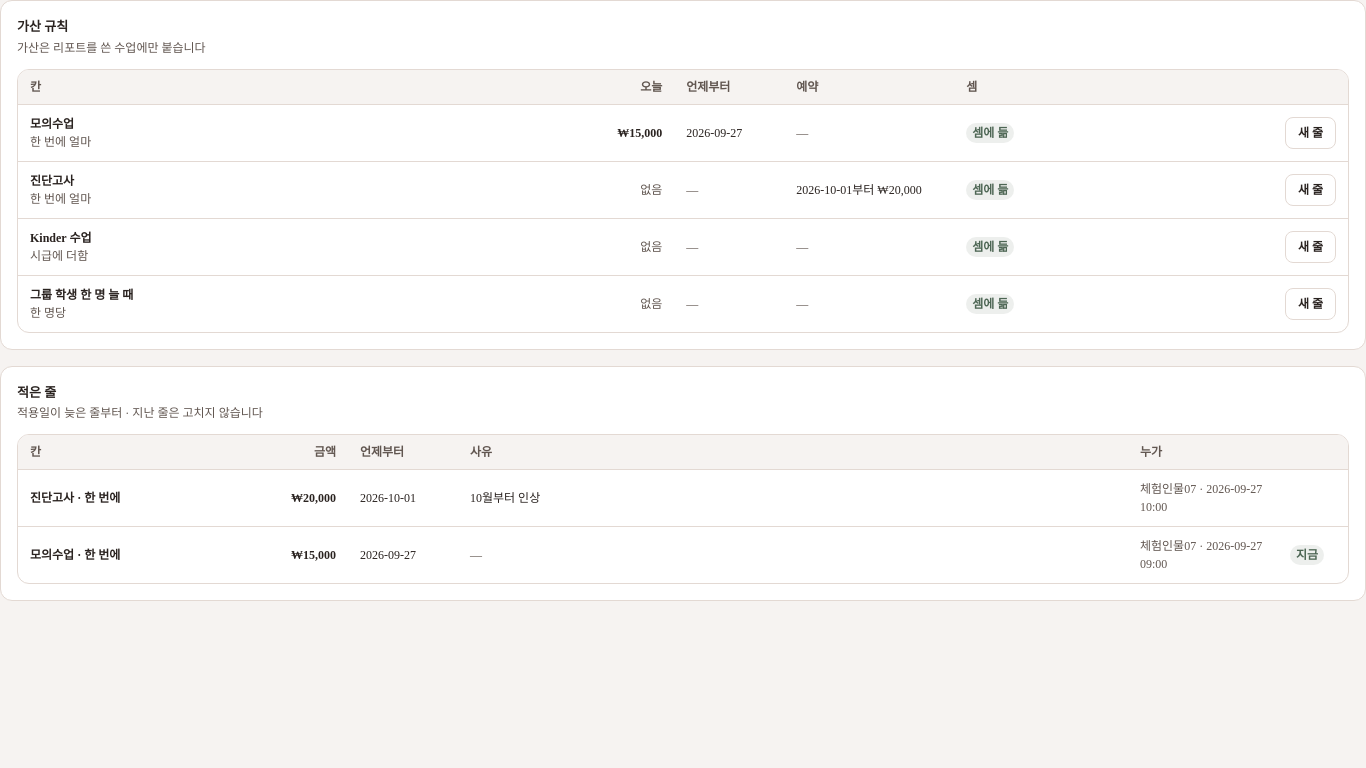
Test case: 「새 줄」은 그 칸의 지금 금액(없으면 D1 값)과 오늘로 채워 열고 — 칸 · 금액 · 날짜 · 사유만 보낸다
The image size is (1366, 768).
Click the 2nd button "새 줄" at (1310, 190), box [1285,174,1336,206]
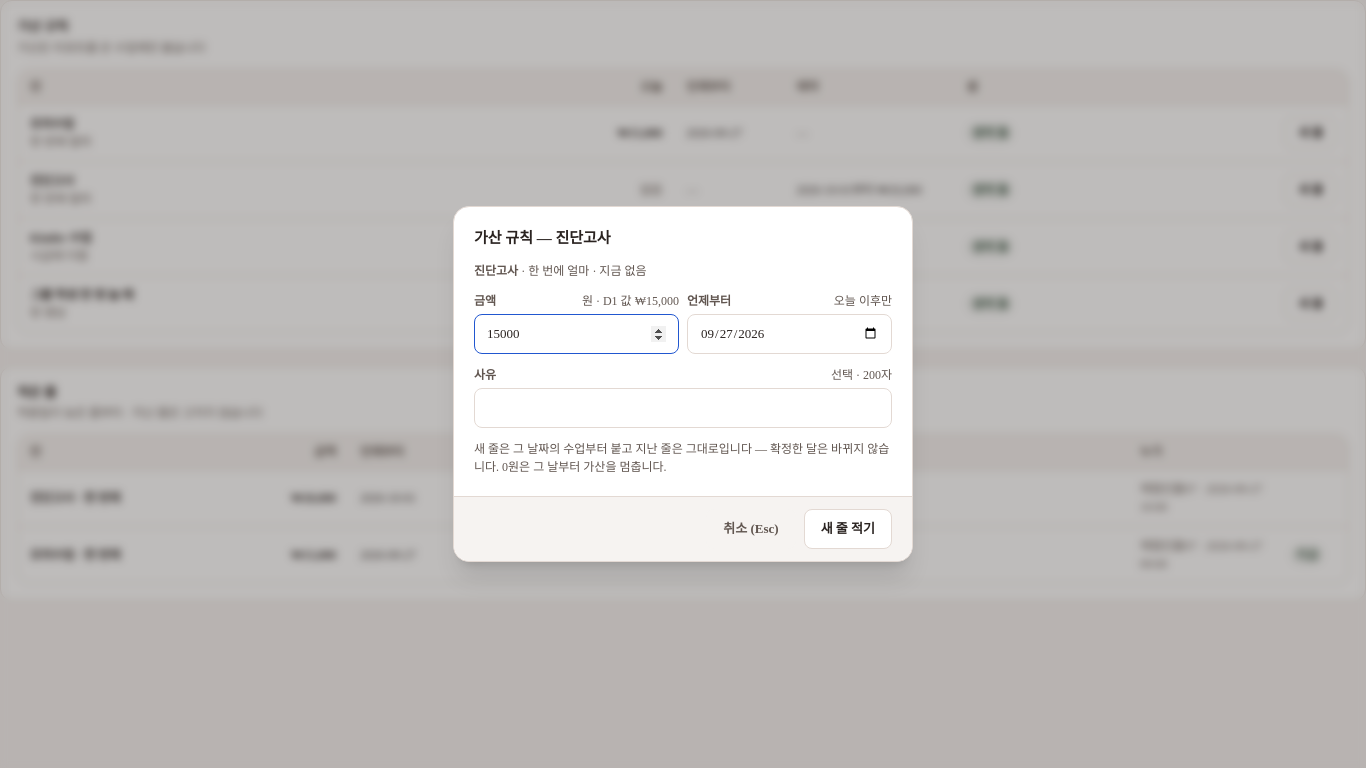
Expected: the number field labelled "금액" holds "15000"
Expected: the date field labelled "언제부터" holds "2026-09-27", [687,314,892,354]
Replace the text in the number field labelled "금액" with "20000" at (576, 334), box [474,314,679,354]
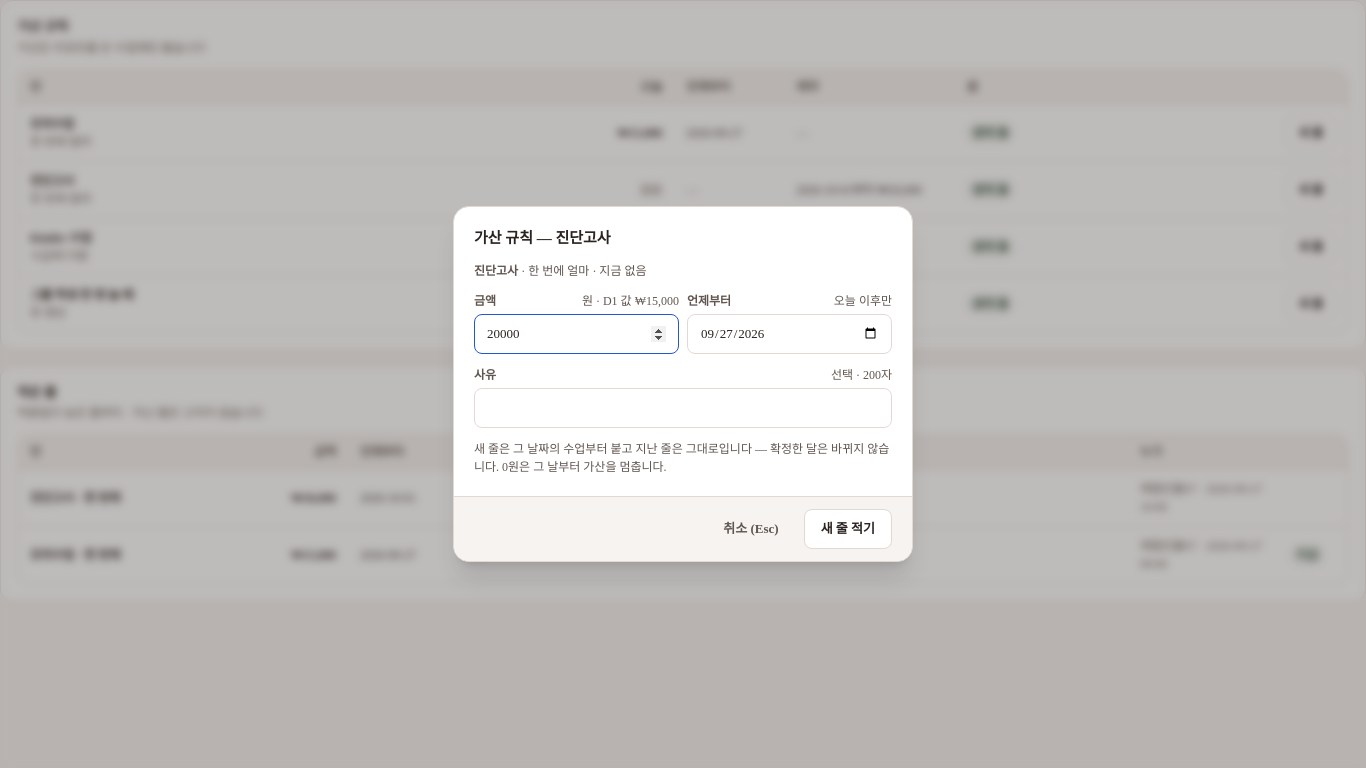
Type "  인상  " into the field labelled "사유" at (683, 408), box [474,388,892,428]
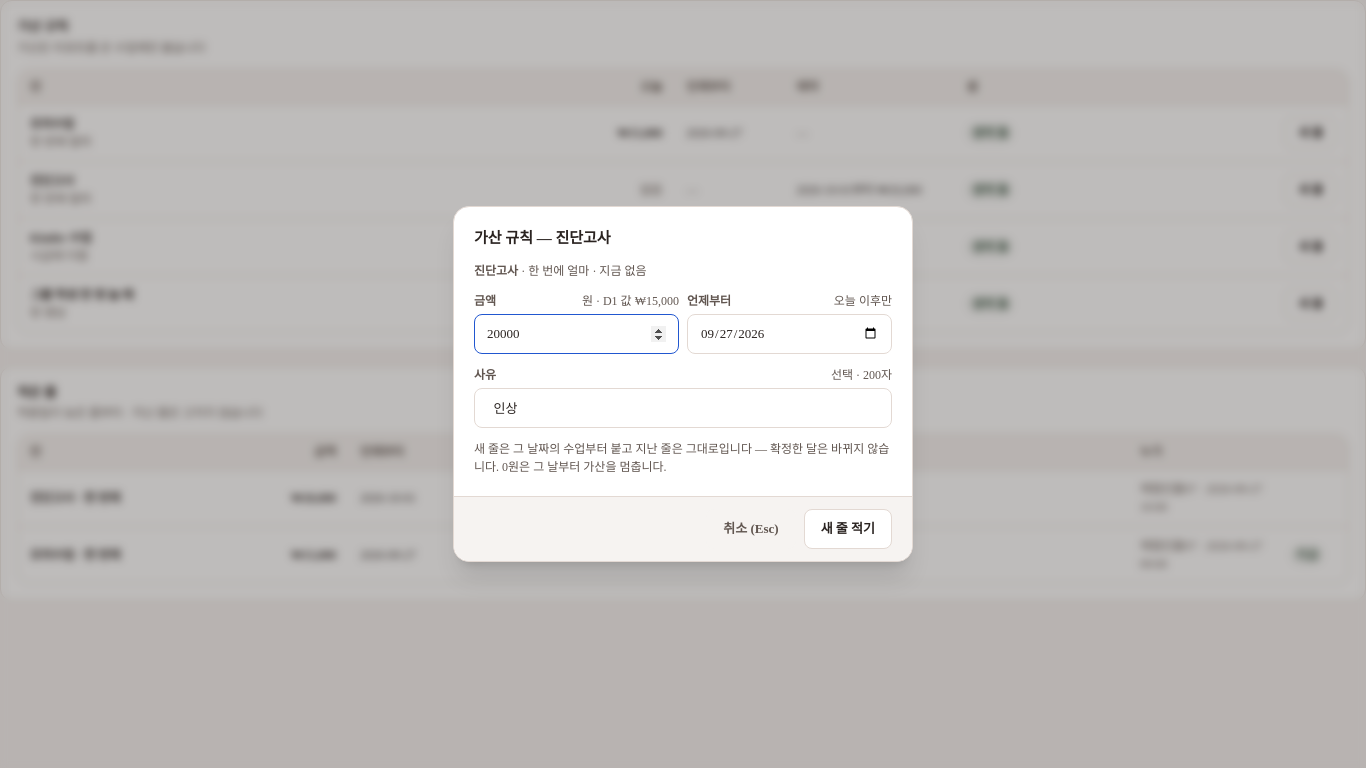
Click the button "새 줄 적기" at (848, 529), box [804,509,892,549]
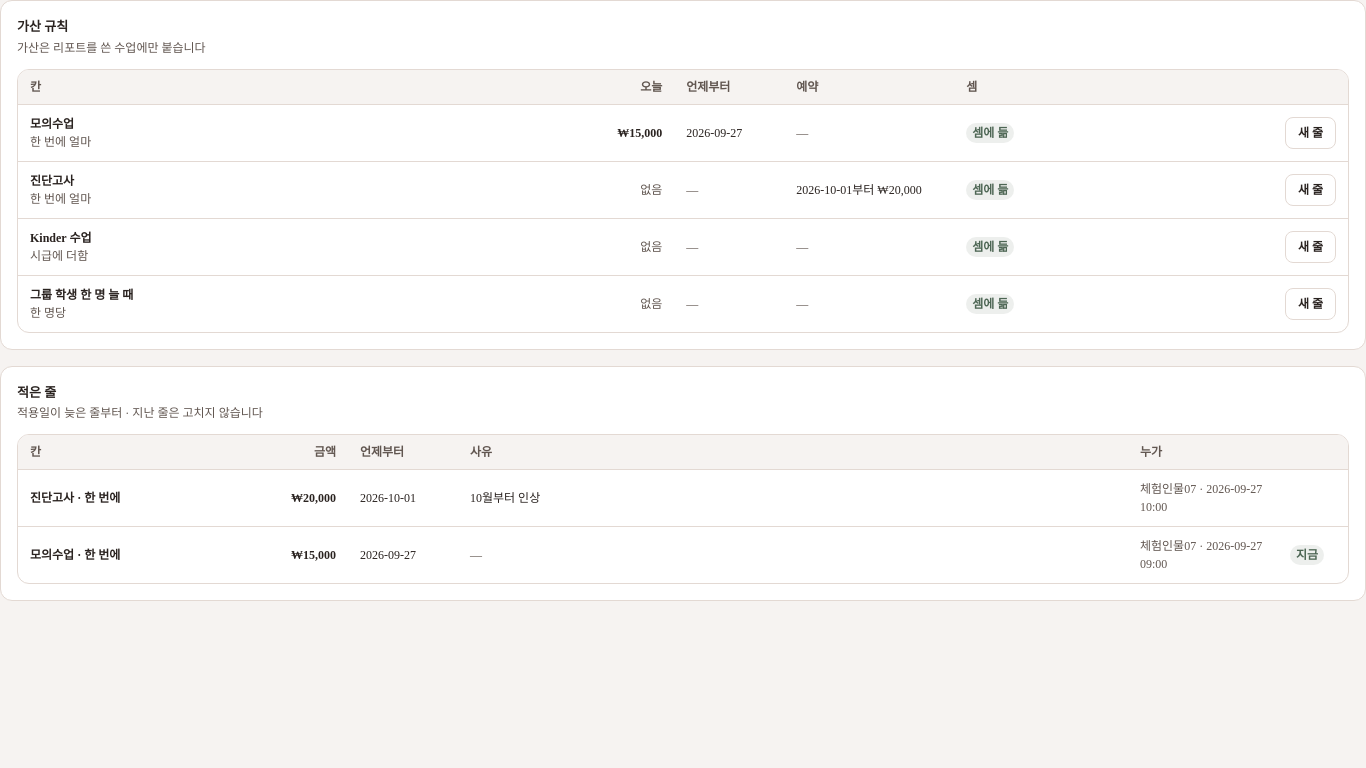
Expected: the dialog is gone
